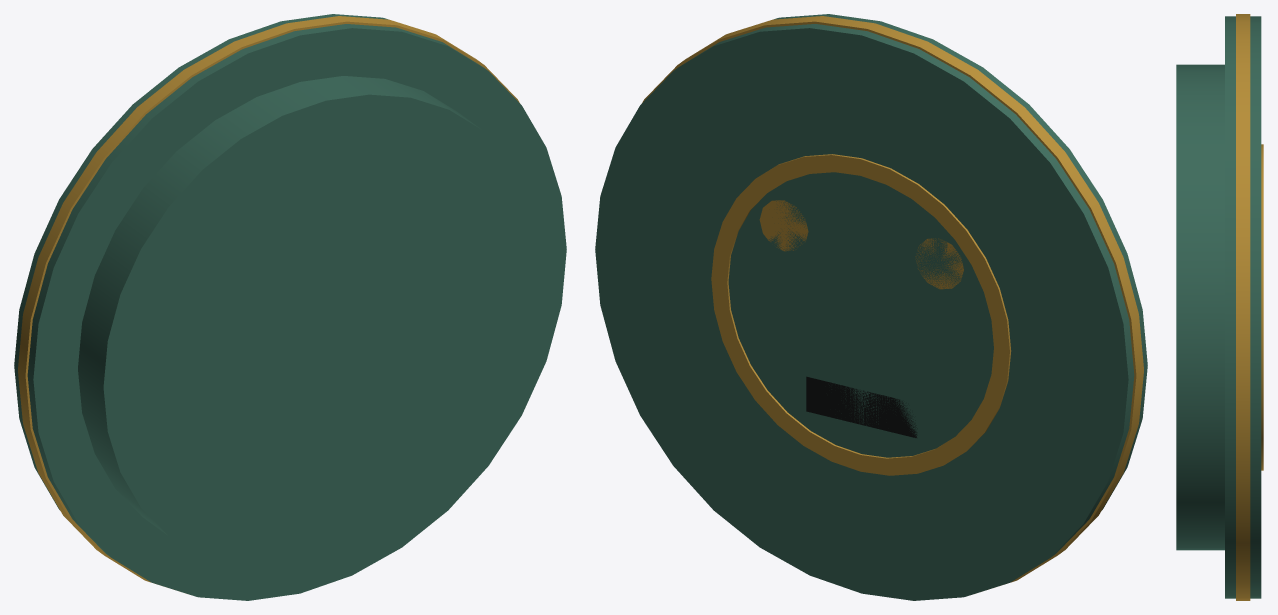
The model's file is h12_flange.obj.
3 views of the same model, side by side, from view 1: azimuth 30°, elevation 25°; view 2: azimuth 150°, elevation 25°; view 3: azimuth 270°, elevation 25° (orthographic). The views are drawn at different scales.
Visible parts, largest first — view 1: h12_flange; view 2: h12_flange; view 3: h12_flange.
Part boxes in pixels (x1,y1,x2,y2): h12_flange: (14,14,566,600); h12_flange: (595,14,1147,600); h12_flange: (1176,14,1263,600).
Bounding box in the file's own units: 1.54 × 1.54 × 0.2283.
